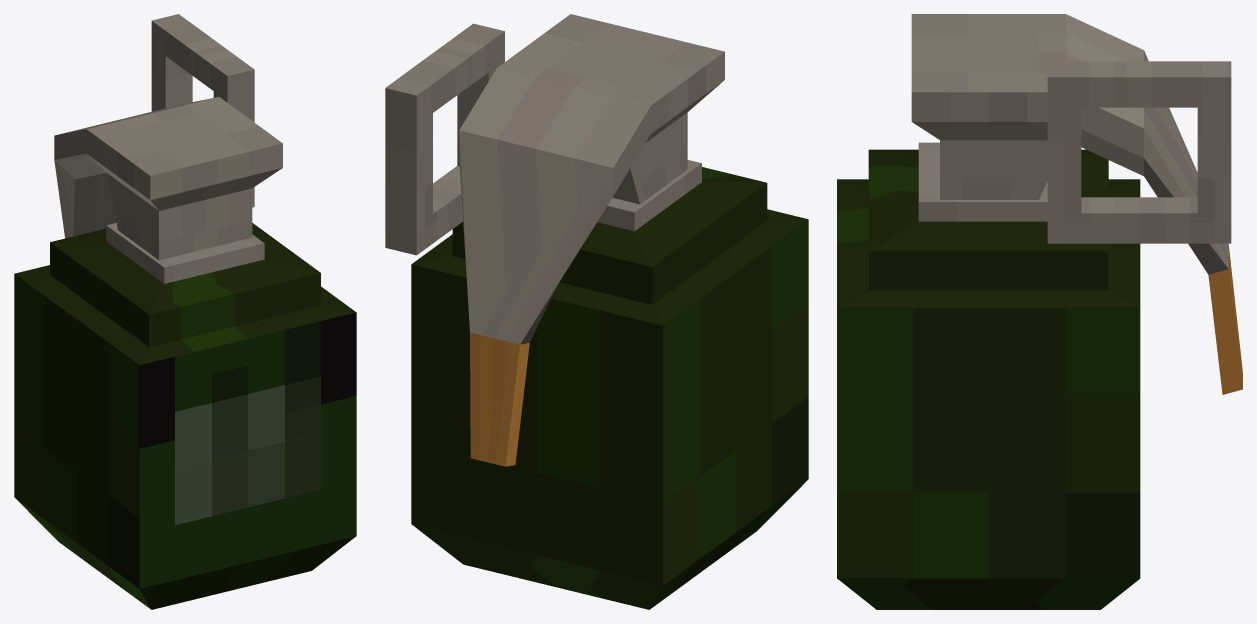
File: Gun-24.fbx
3 renders of one model, left to right at view 1: azimuth 30°, elevation 25°; view 2: azimuth 150°, elevation 25°; view 3: azimuth 270°, elevation 25°, orthographic. The views are drawn at different scales.
Parts seen in each view (by area): view 1: Gun-24; view 2: Gun-24; view 3: Gun-24.
Boxes of the visible parts, x1,y1,x2,y2 form: Gun-24: (14,14,356,609); Gun-24: (385,14,808,609); Gun-24: (837,14,1242,609).
Size of the model in its own units: 17.84 by 35.1 by 23.87.
1 material, 1 textured.
